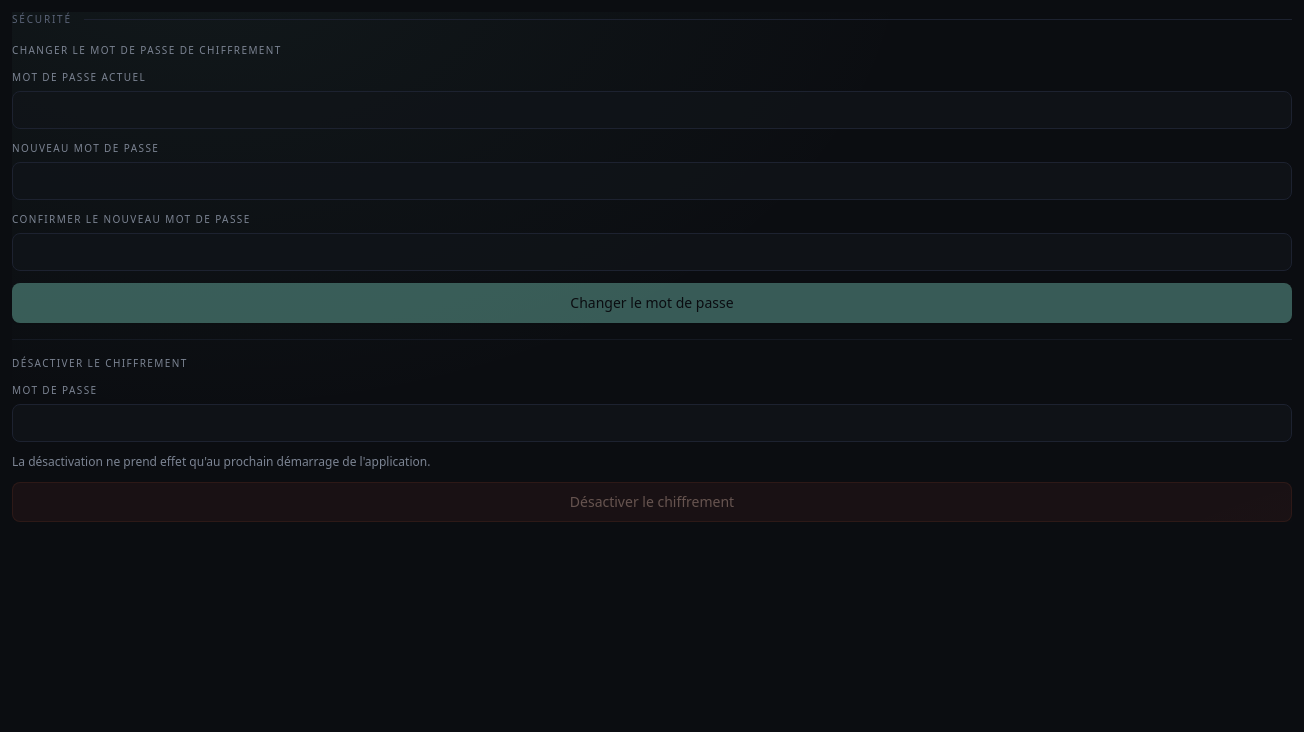
Test: SettingsSecurity › shows wrongPassword when disable is submitted with a bad password (403)
This screenshot has width=1304, height=732.
Type "wrongpass1" into the password field labelled "Mot de passe".
click(652, 423); type("wrongpass1")  # box [12,404,1292,442]
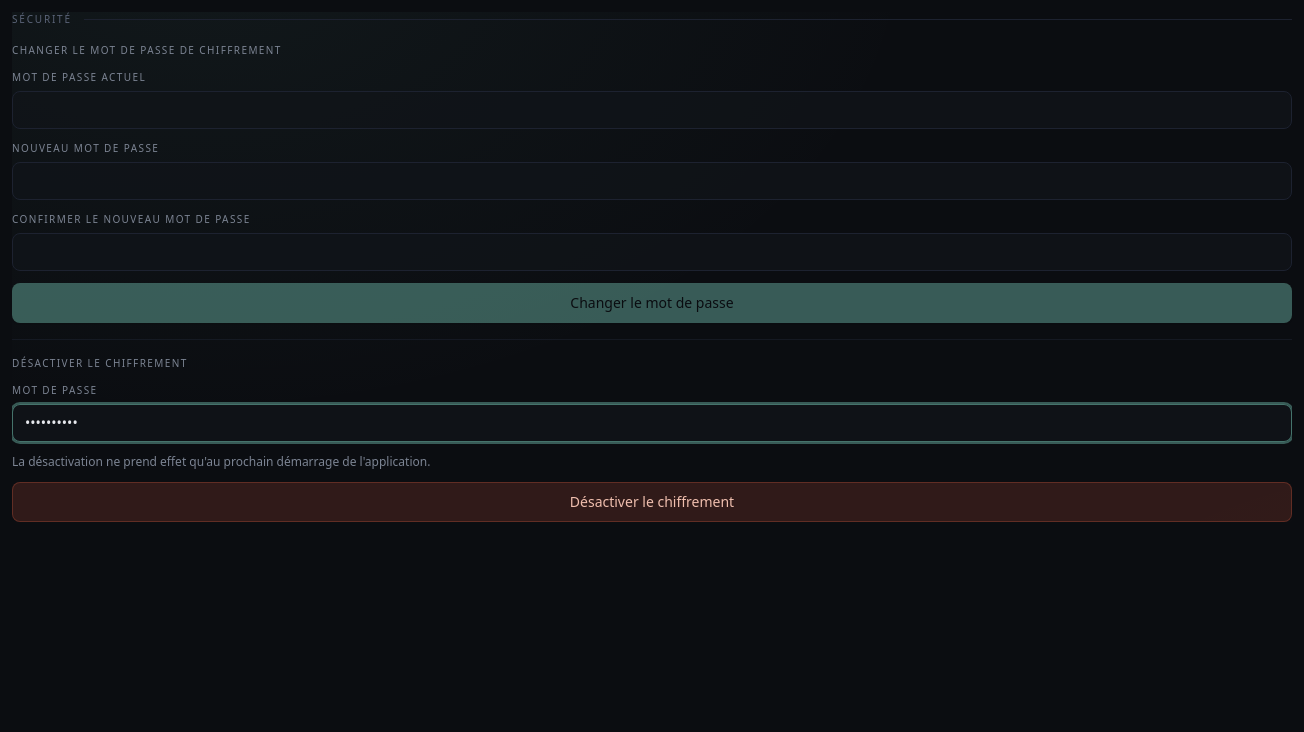
Click the button "Désactiver le chiffrement".
click(652, 502)  # box [12,482,1292,522]
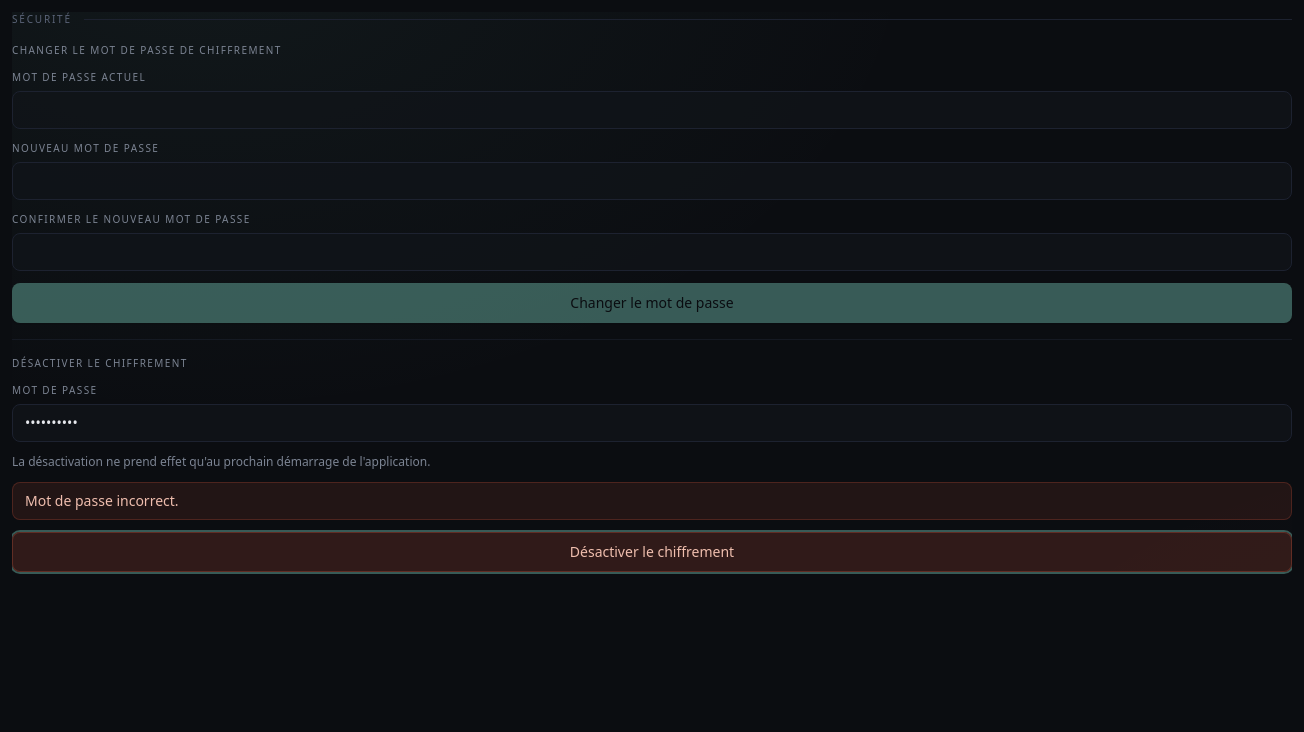
Now the text "Mot de passe incorrect." is shown, box [12,482,1292,520]
